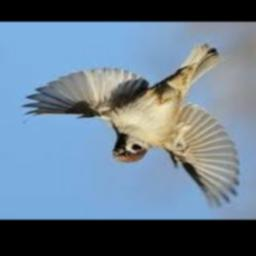Sparrow: (20, 43, 238, 210)
